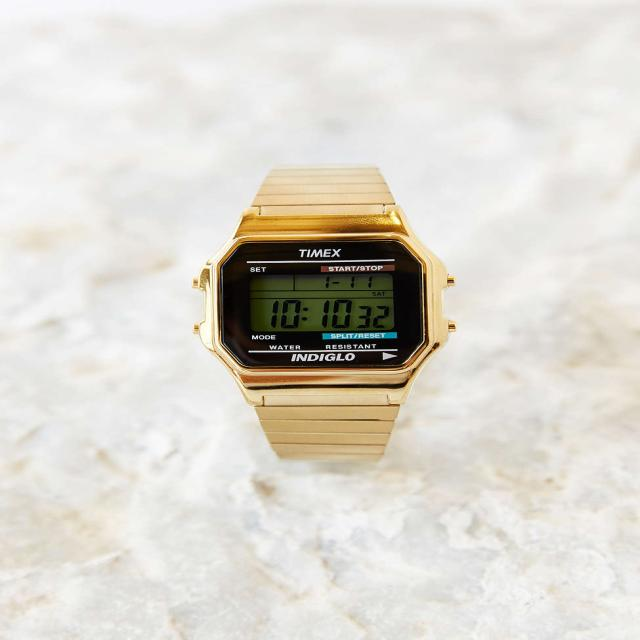watch: (198, 159, 454, 461)
